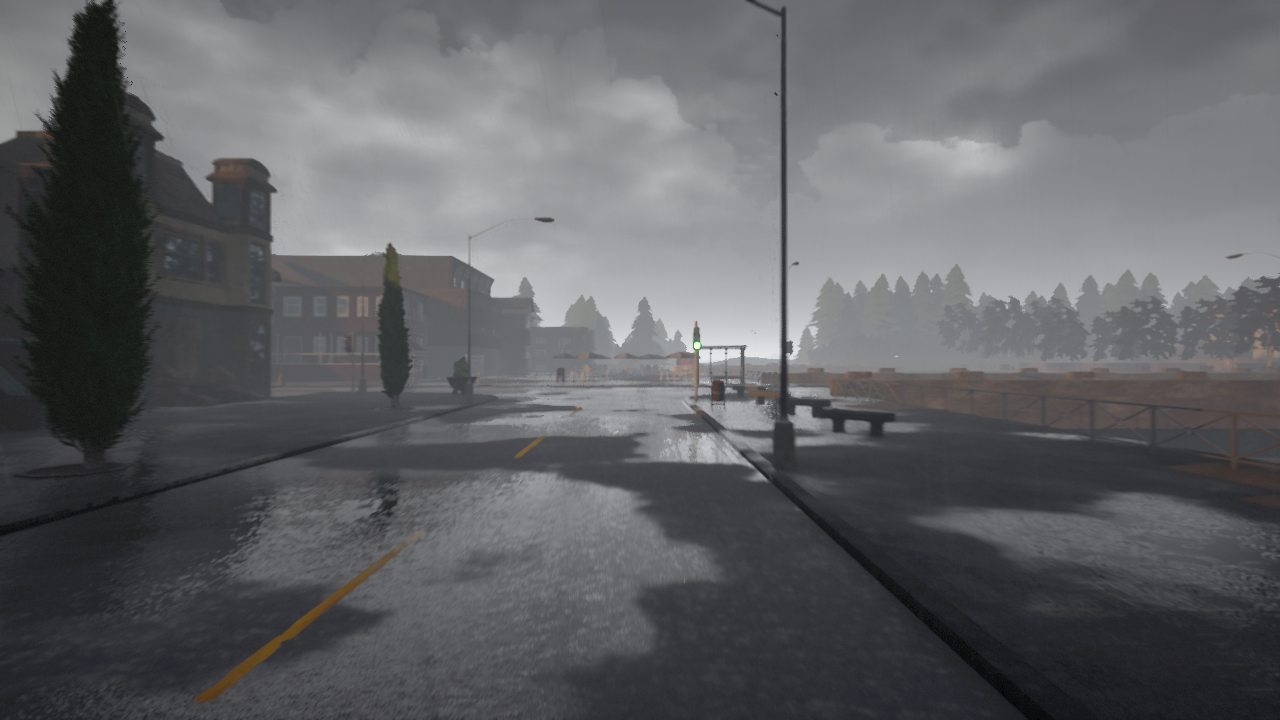green: (690, 326, 703, 353)
